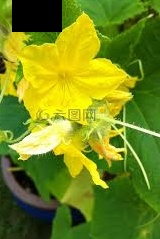cucumber_plant: (9, 9, 137, 215)
